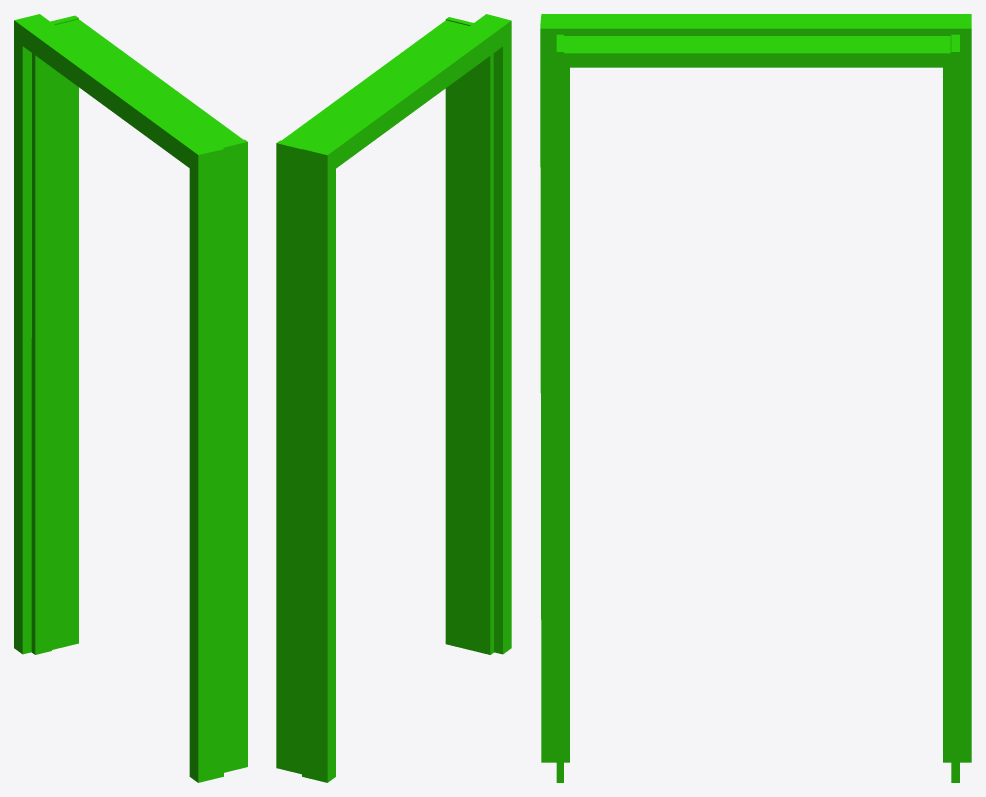
Rendered from Door_A_01_Lod0.fbx.
3 views of the same model, side by side, from view 1: azimuth 30°, elevation 25°; view 2: azimuth 150°, elevation 25°; view 3: azimuth 270°, elevation 25° (orthographic). The views are drawn at different scales.
Parts seen in each view (by area): view 1: Door_A_01_Lod0; view 2: Door_A_01_Lod0; view 3: Door_A_01_Lod0.
Part boxes in pixels (x1,y1,x2,y2): Door_A_01_Lod0: (14,14,247,782); Door_A_01_Lod0: (276,14,511,782); Door_A_01_Lod0: (540,14,971,782).
Bounding box in the file's own units: 22.43 × 241 × 128.
